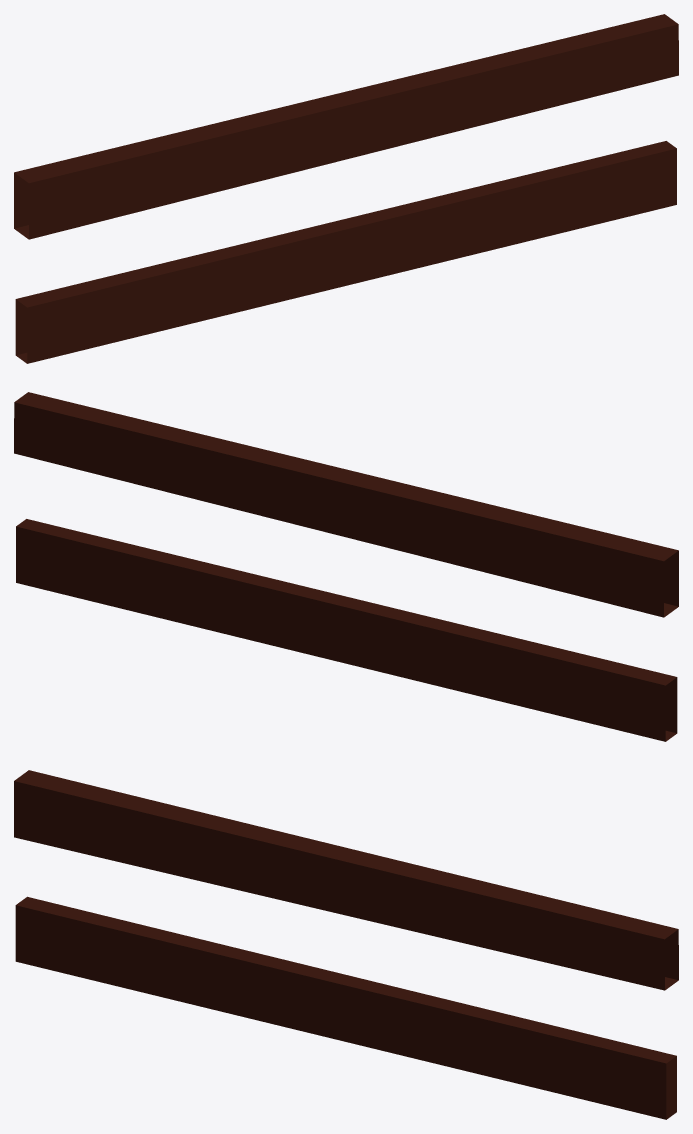
The model's file is FenceWood.fbx.
3 views of the same model, one above another, from view 1: azimuth 30°, elevation 25°; view 2: azimuth 150°, elevation 25°; view 3: azimuth 330°, elevation 25° (orthographic).
Visible parts, largest first — view 1: Fence Wood; view 2: Fence Wood; view 3: Fence Wood.
Boxes of the visible parts, box(x1,y1,x2,y2) form: Fence Wood: box(14, 14, 678, 363); Fence Wood: box(14, 392, 678, 741); Fence Wood: box(14, 770, 678, 1119).
Bounding box in the file's own units: 2.52 × 0.6741 × 0.1003.
